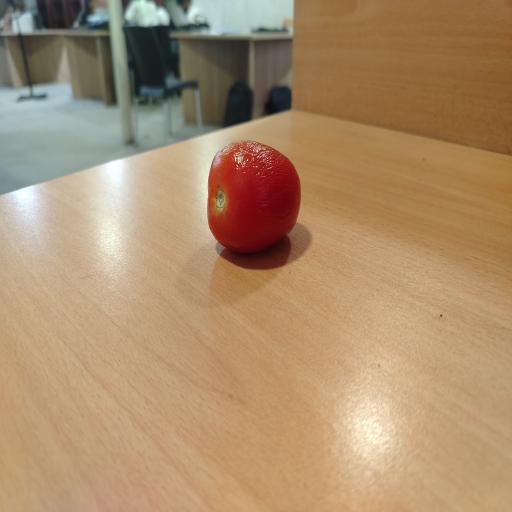spoiled: (207, 141, 301, 252)
